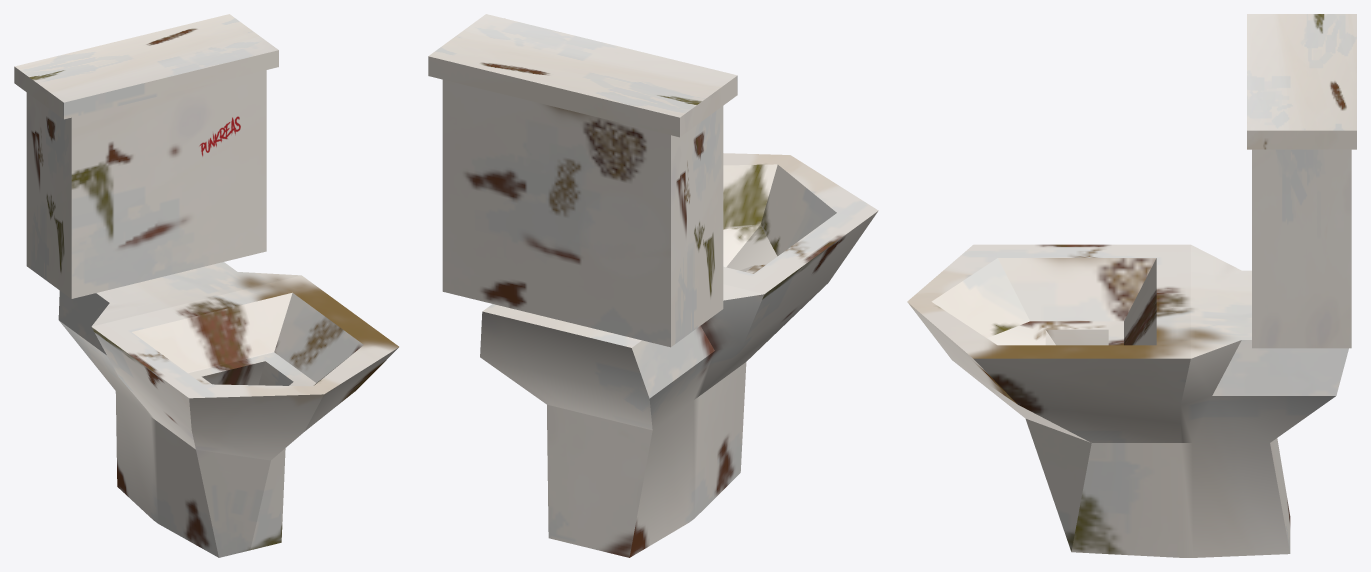
The model's file is toilet.glb.
The picture shows the model from 3 angles, left to right: view 1: azimuth 30°, elevation 25°; view 2: azimuth 150°, elevation 25°; view 3: azimuth 270°, elevation 25°; orthographic projection. The views are drawn at different scales.
Visible parts, largest first — view 1: Bowl, tank; view 2: tank, Bowl; view 3: Bowl, tank.
Boxes of the visible parts, left/top/right/bottom form: Bowl: left=58, top=262, right=398, bottom=557; tank: left=14, top=14, right=278, bottom=298; tank: left=428, top=14, right=737, bottom=347; Bowl: left=480, top=153, right=878, bottom=557; Bowl: left=907, top=244, right=1348, bottom=557; tank: left=1247, top=14, right=1356, bottom=348.
Bounding box in the file's own units: 0.4397 × 0.8126 × 0.7155.
3 materials, 2 textured.
